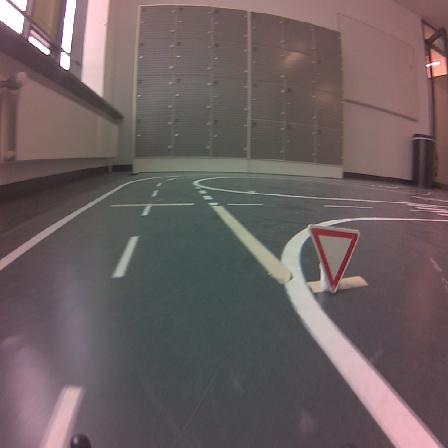GIVE_WAY: (309, 225, 359, 292)
